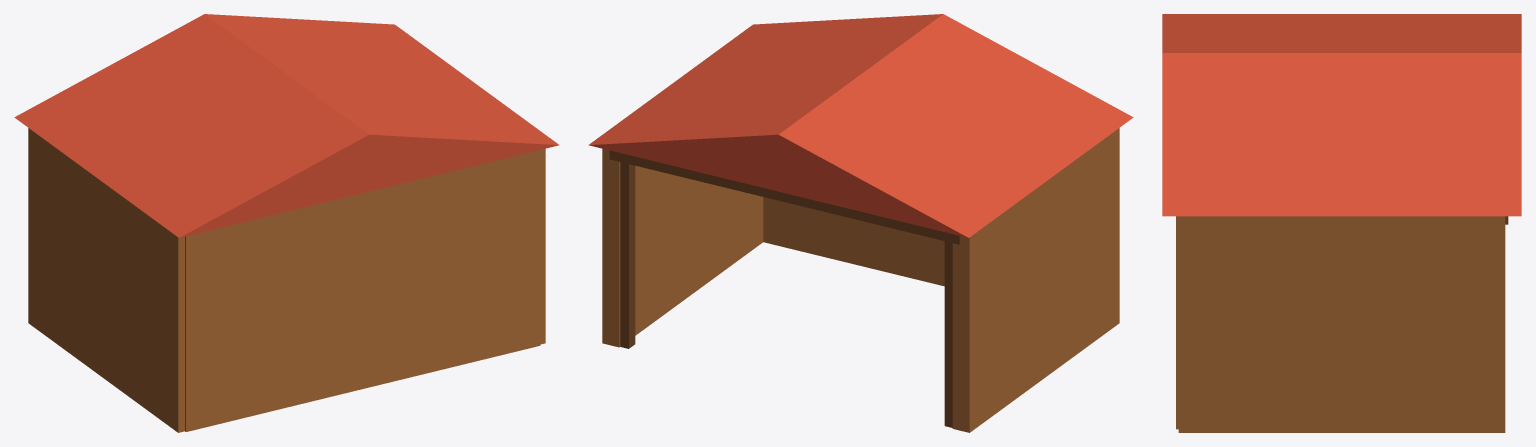
The model's file is shelter_hut_S.fbx.
The picture shows the model from 3 angles, left to right: view 1: azimuth 30°, elevation 25°; view 2: azimuth 150°, elevation 25°; view 3: azimuth 270°, elevation 25°; orthographic projection. The views are drawn at different scales.
Visible parts, largest first — view 1: shelter_hut_S; view 2: shelter_hut_S; view 3: shelter_hut_S.
Boxes of the visible parts, <box> form: shelter_hut_S: <box>14,14,559,432</box>; shelter_hut_S: <box>588,14,1133,432</box>; shelter_hut_S: <box>1162,14,1521,432</box>.
Bounding box in the file's own units: 4 × 2.6 × 3.
